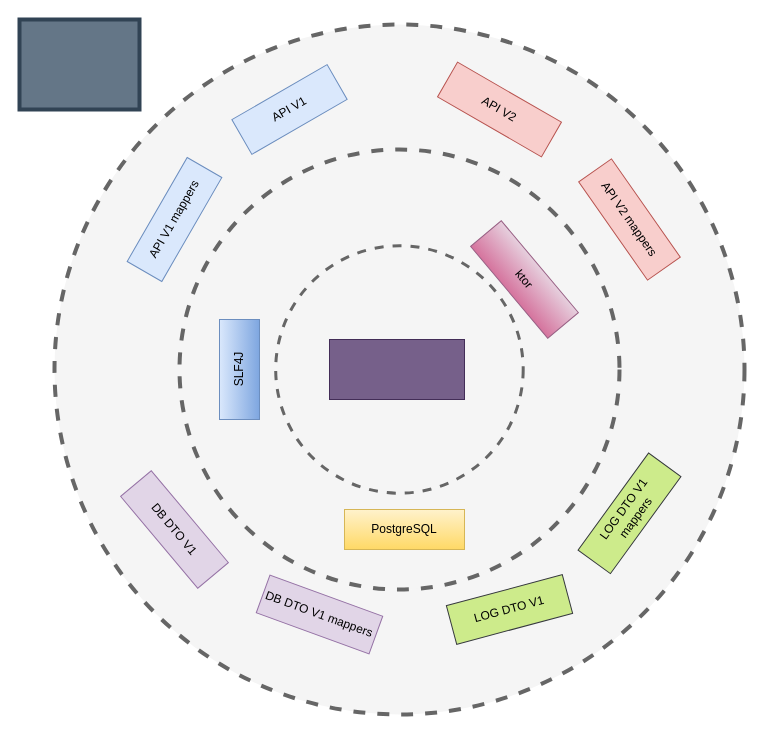
The diagram is 763 pixels wide and 733 high, and some of its shapes have lost their labels. Here are the shapes that lost their labels. From the top down, the centre of each, then its label:
At (79,64): "Internal DTO".
At (396,369): "Bussines logic".
